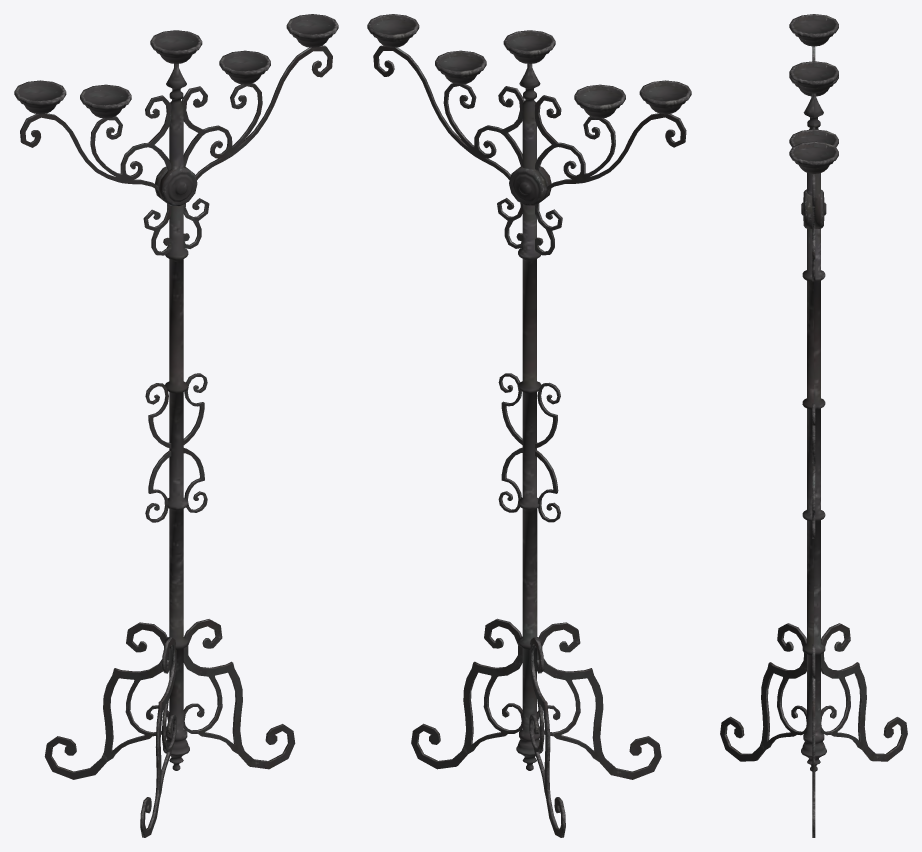
Rendered from pian_chandelier.glb.
3 views of the same model, side by side, from view 1: azimuth 30°, elevation 25°; view 2: azimuth 150°, elevation 25°; view 3: azimuth 270°, elevation 25° (orthographic). The views are drawn at different scales.
Parts seen in each view (by area): view 1: Cylinder.016_0; view 2: Cylinder.016_0; view 3: Cylinder.016_0.
Part boxes in pixels (x1=…): Cylinder.016_0: x1=14, y1=14, x2=338, y2=837; Cylinder.016_0: x1=367, y1=14, x2=691, y2=837; Cylinder.016_0: x1=720, y1=14, x2=907, y2=837.
Bounding box in the file's own units: 0.3983 × 0.9 × 0.2129.
Materials: 1 (1 with a texture image).
